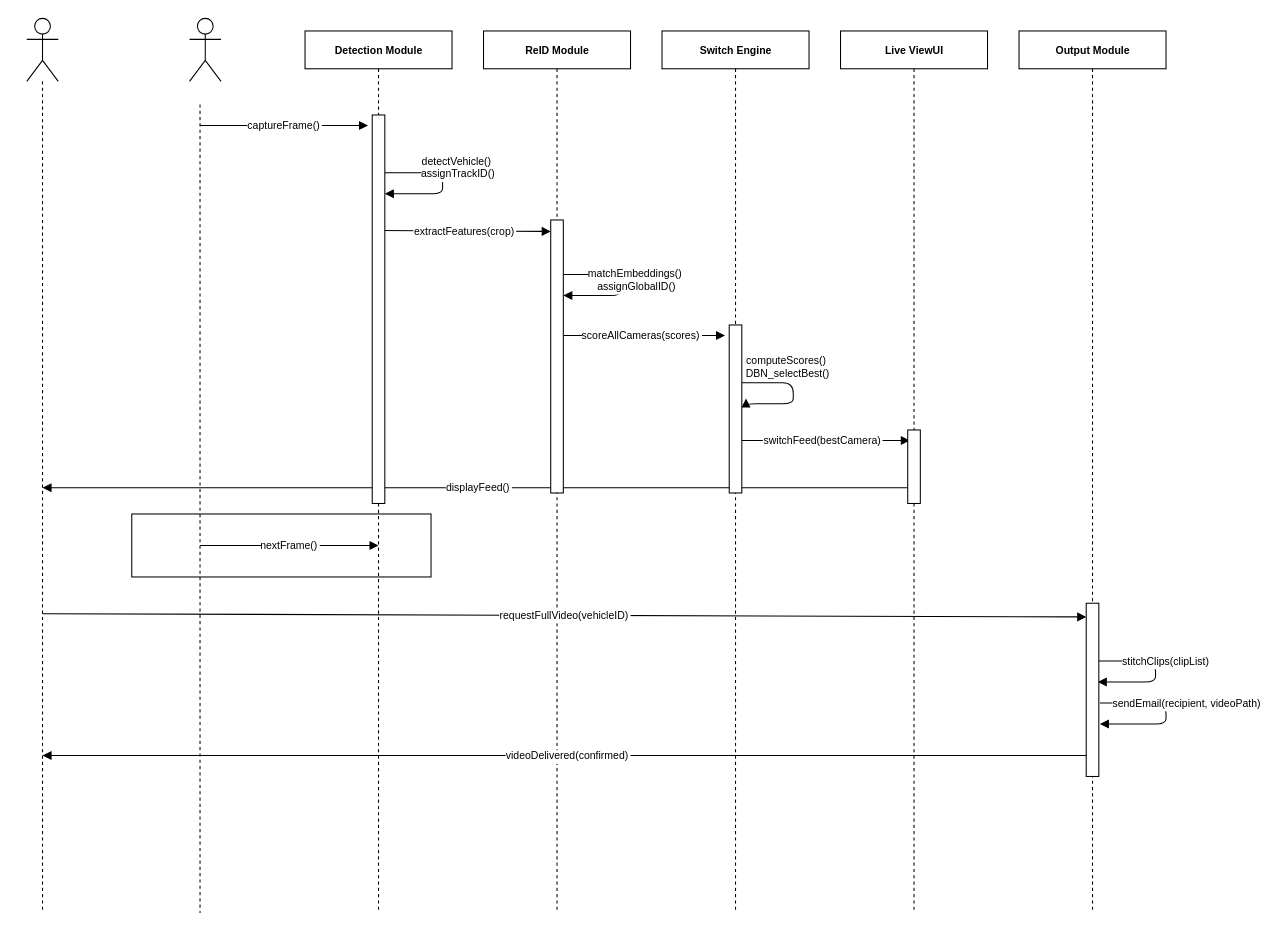
The diagram is 1281 pixels wide and 932 high, and some of its shapes have lost their labels. Here are the shapes that lost their labels. From the top down, the centre of each, then its label:
point (42, 49): Operator
point (204, 49): CameraNetwork
point (281, 545): loop [car still in network]
